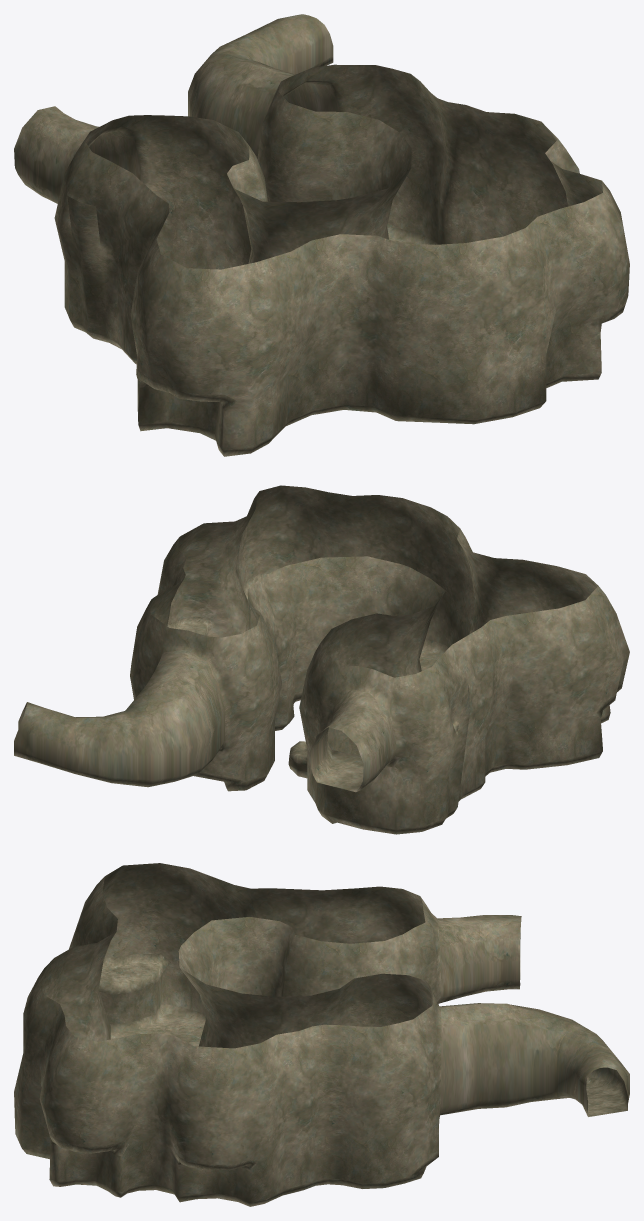
File: OVERHILL_A_01_CAVE_06.fbx
3 views of the same model, one above another, from view 1: azimuth 30°, elevation 25°; view 2: azimuth 150°, elevation 25°; view 3: azimuth 270°, elevation 25° (orthographic). The views are drawn at different scales.
Parts seen in each view (by area): view 1: OVERHILL_A_01_CAVE_06; view 2: OVERHILL_A_01_CAVE_06; view 3: OVERHILL_A_01_CAVE_06.
Part boxes in pixels (box(x1,y1,x2,y2)): OVERHILL_A_01_CAVE_06: box(14, 14, 629, 456); OVERHILL_A_01_CAVE_06: box(14, 485, 629, 834); OVERHILL_A_01_CAVE_06: box(14, 863, 629, 1206).
Bounding box in the file's own units: 228795 × 83375 × 284138.
Materials: 1 (1 with a texture image).
